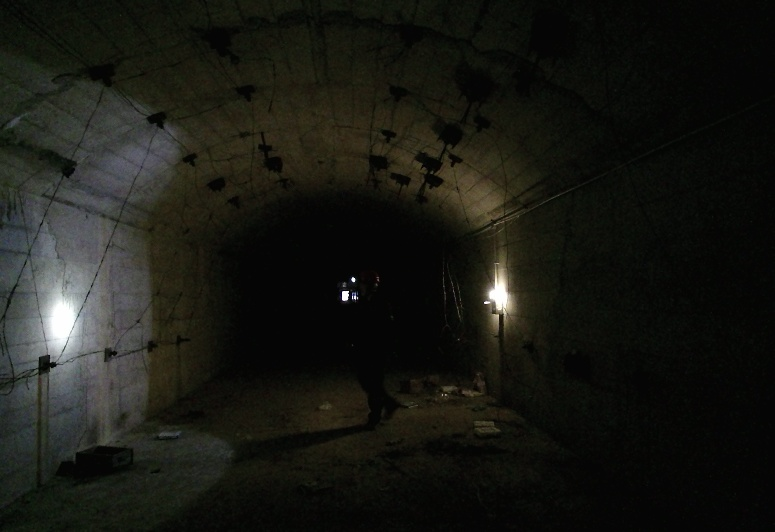person: (350, 272, 418, 431)
